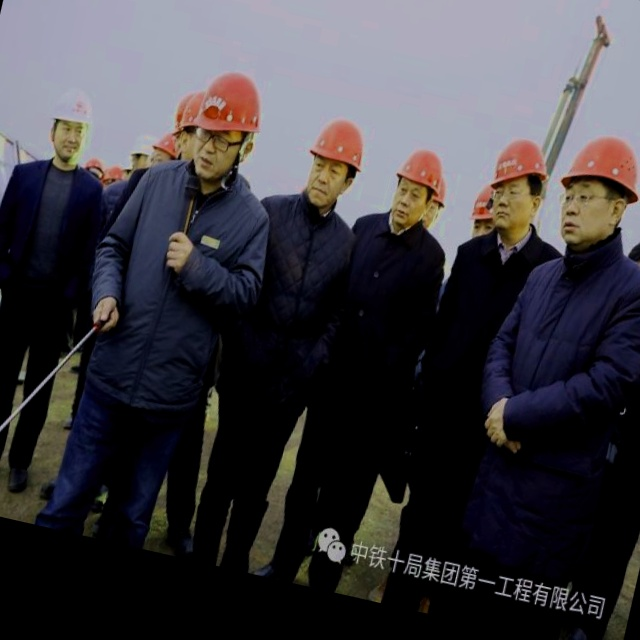Con_Casco: (297, 115, 371, 216), (384, 143, 445, 231), (41, 82, 102, 165)
